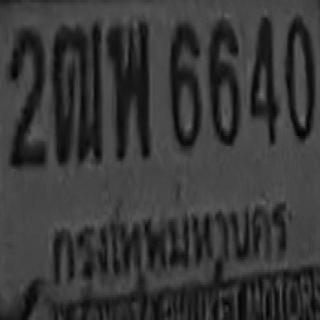A18: (52, 21, 101, 162)
A30: (107, 18, 149, 156)
N00: (284, 14, 314, 140)
N02: (7, 25, 44, 164)
N04: (249, 14, 278, 142)
N06: (168, 19, 200, 148), (207, 18, 238, 144)
P04: (33, 175, 291, 285)
